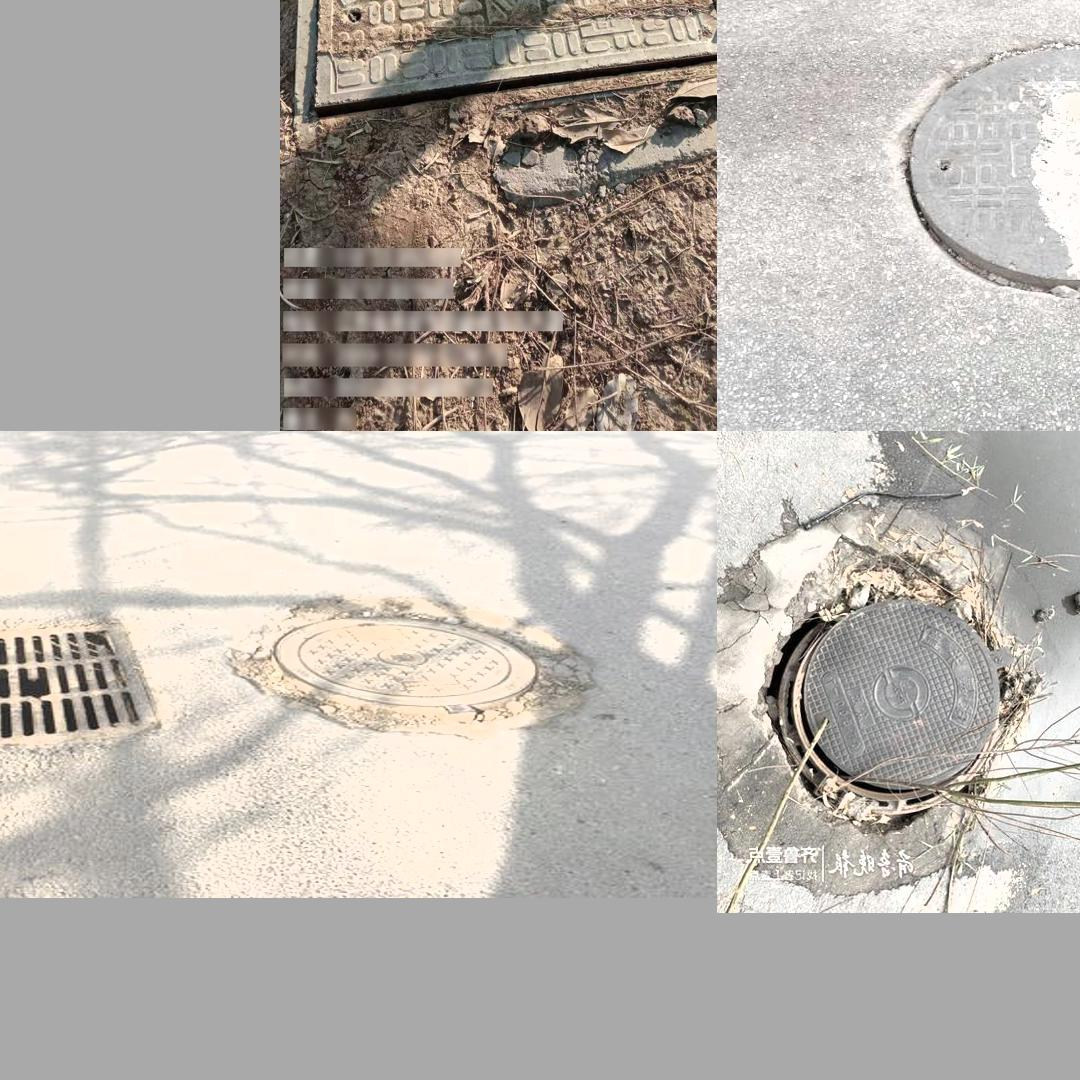circle: (721, 499, 1053, 887), (217, 582, 595, 744), (286, 0, 717, 134), (888, 24, 1080, 304)
